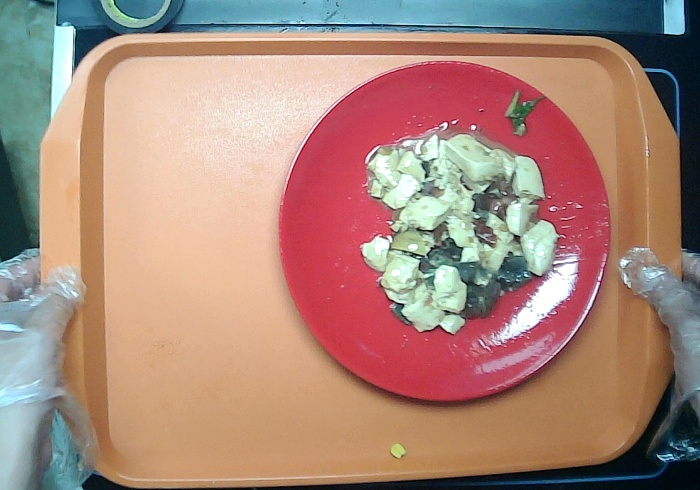HZYJPL-Hong_Se_Yuan_Pan: (268, 55, 618, 408)
